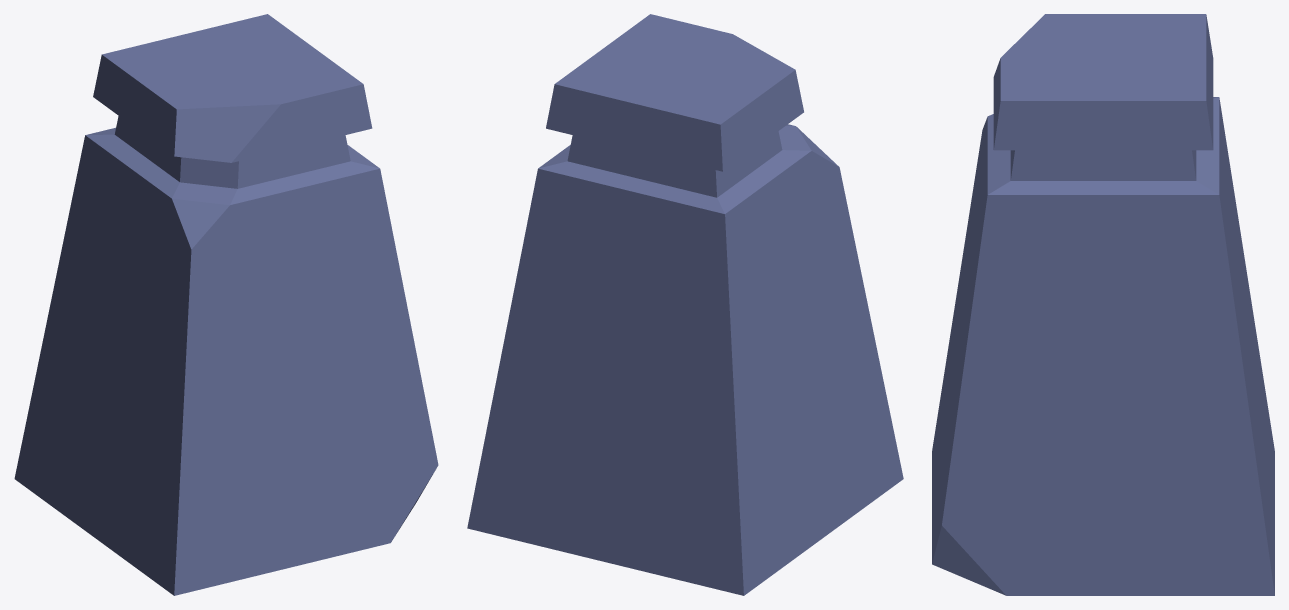
File: column_small_2_4.fbx
3 views of the same model, side by side, from view 1: azimuth 30°, elevation 25°; view 2: azimuth 150°, elevation 25°; view 3: azimuth 270°, elevation 25° (orthographic). The views are drawn at different scales.
Visible parts, largest first — view 1: column_small_2_4; view 2: column_small_2_4; view 3: column_small_2_4.
Boxes of the visible parts, left/top/right/bottom form: column_small_2_4: left=14, top=14, right=438, bottom=595; column_small_2_4: left=467, top=14, right=903, bottom=595; column_small_2_4: left=932, top=14, right=1274, bottom=595.
Size of the model in its own units: 2 by 3 by 2.
